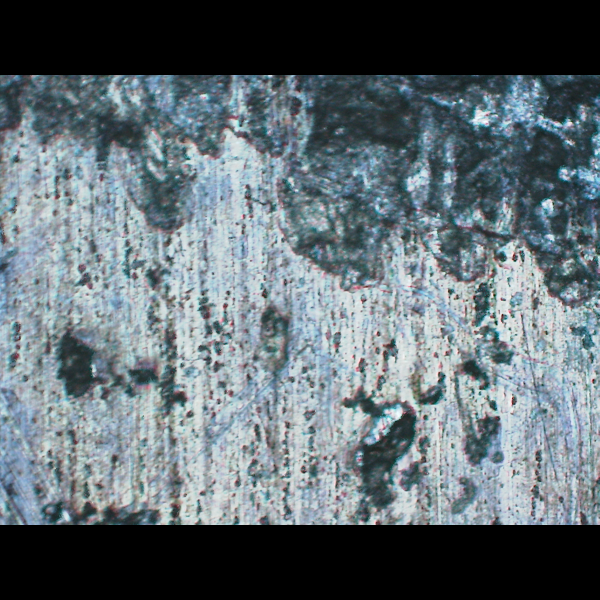d: (0, 75, 599, 332), (336, 369, 500, 515)
